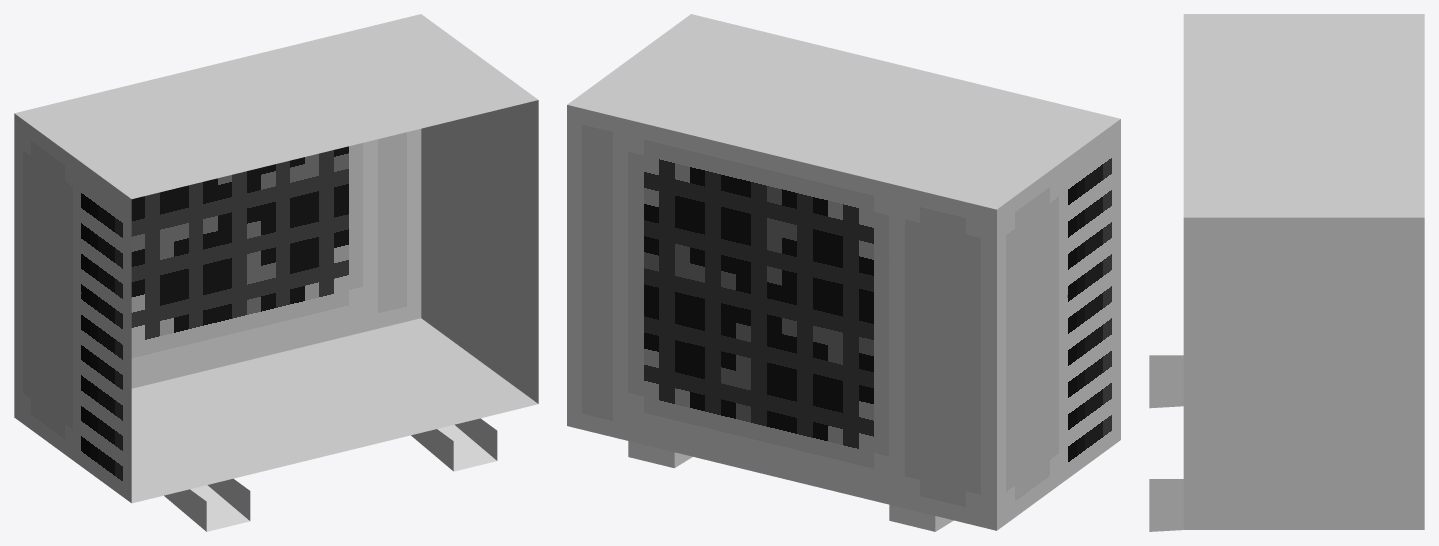
File: airCon2.fbx
The picture shows the model from 3 angles, left to right: view 1: azimuth 30°, elevation 25°; view 2: azimuth 150°, elevation 25°; view 3: azimuth 270°, elevation 25°; orthographic projection. The views are drawn at different scales.
Parts seen in each view (by area): view 1: aircon, airConSupports; view 2: aircon, airConSupports; view 3: aircon, airConSupports.
Boxes of the visible parts, x1,y1,x2,y2 form: aircon: (14, 14, 538, 503); airConSupports: (164, 418, 497, 531); aircon: (567, 14, 1120, 530); airConSupports: (628, 441, 953, 531); aircon: (1183, 14, 1424, 529); airConSupports: (1149, 355, 1183, 531).
Size of the model in its own units: 175 by 138 by 100.
